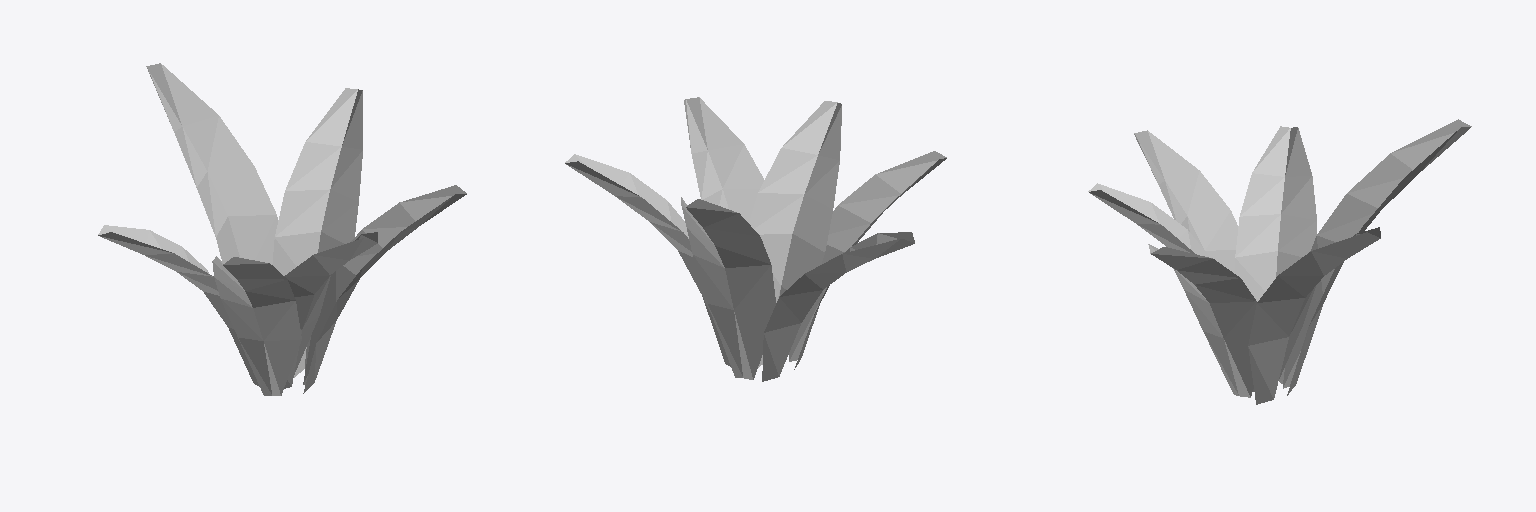
Rendered from Plant_1.obj.
The picture shows the model from 3 angles: view 1: azimuth 30°, elevation 25°; view 2: azimuth 150°, elevation 25°; view 3: azimuth 270°, elevation 25°; orthographic projection.
Visible parts, largest first — view 1: Plant_1; view 2: Plant_1; view 3: Plant_1.
Boxes of the visible parts, x1=… form: Plant_1: x1=98, y1=63, x2=466, y2=395; Plant_1: x1=565, y1=97, x2=946, y2=381; Plant_1: x1=1088, y1=119, x2=1471, y2=404.
Bounding box in the file's own units: 1.27 × 1.01 × 1.39.